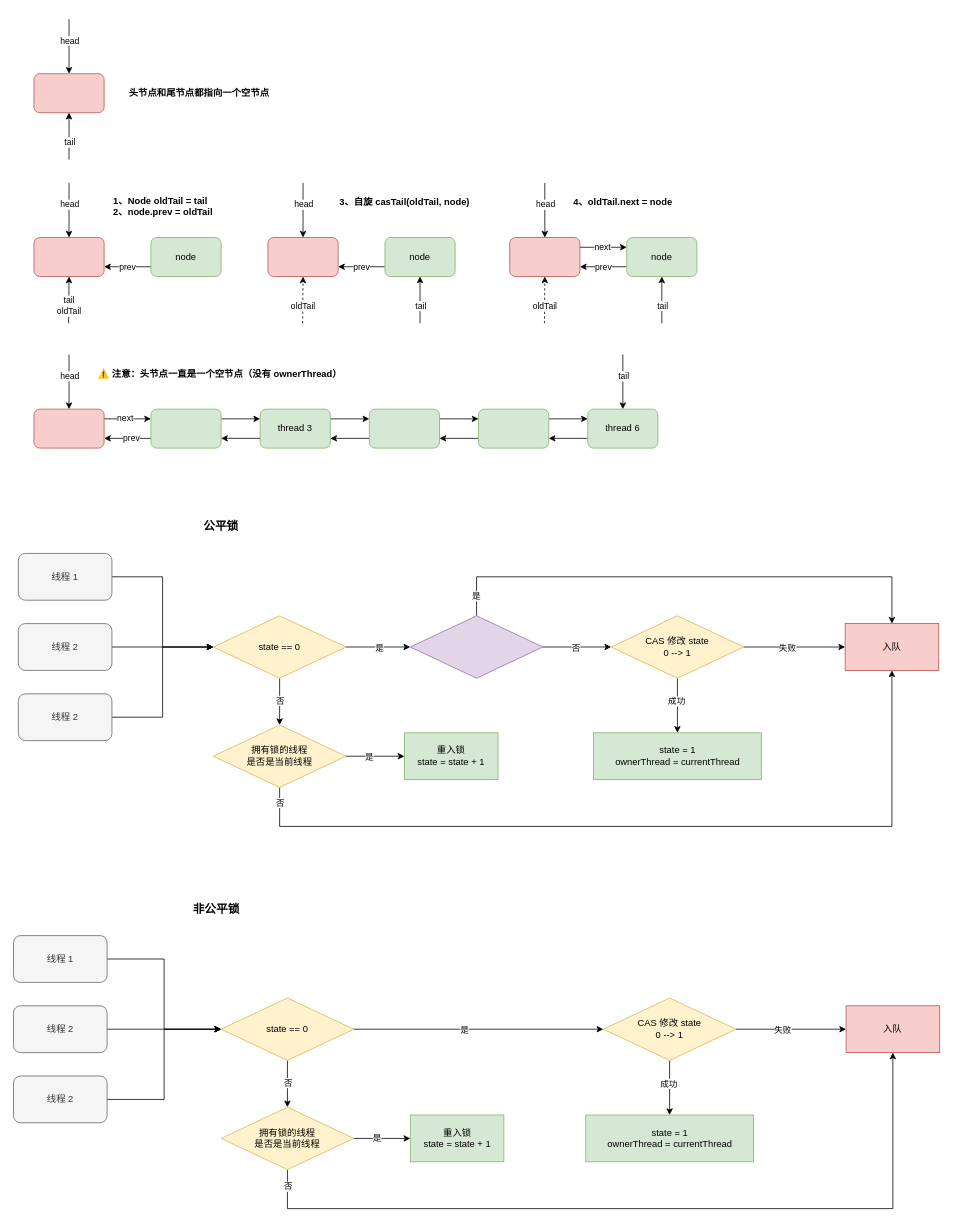
Image size: 954x1229. Some labels were removed from this diagram. Each missing label, with the centre of its shape:
thread 2: point (185, 428)
thread 4: point (404, 428)
thread 5: point (513, 428)
队列是否有等待节点: point (476, 646)
